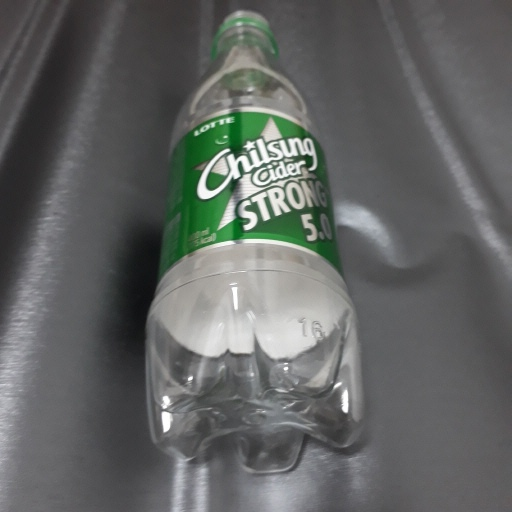Plastic_0: (141, 10, 371, 477)
